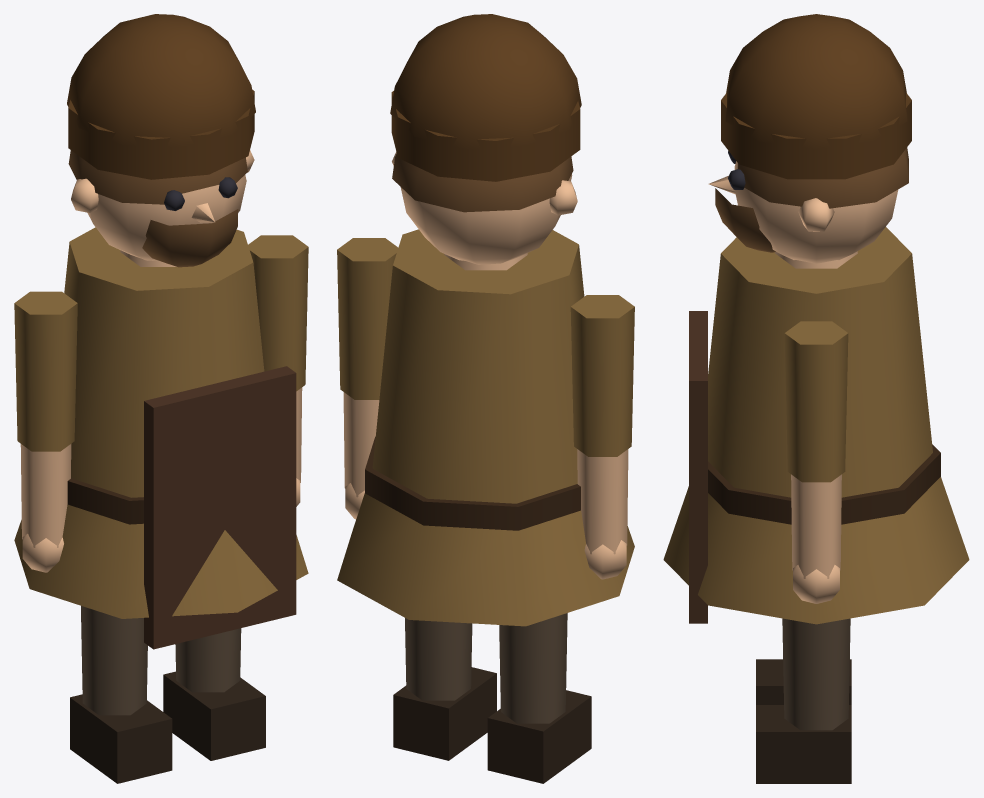
The model's file is w_brauerei.glb.
3 views of the same model, side by side, from view 1: azimuth 30°, elevation 25°; view 2: azimuth 150°, elevation 25°; view 3: azimuth 270°, elevation 25° (orthographic).
Visible parts, largest first — view 1: worker, arm_l, leg_l, leg_r, arm_r; view 2: worker, arm_l, leg_l, leg_r, arm_r; view 3: worker, arm_r, leg_r, leg_l.
Boxes of the visible parts, x1=… form: worker: x1=14, y1=14, x2=308, y2=649; arm_l: x1=14, y1=291, x2=77, y2=572; leg_l: x1=70, y1=606, x2=172, y2=783; leg_r: x1=163, y1=628, x2=265, y2=760; arm_r: x1=248, y1=235, x2=308, y2=506; worker: x1=337, y1=14, x2=634, y2=626; arm_l: x1=570, y1=295, x2=634, y2=579; leg_l: x1=487, y1=613, x2=591, y2=783; leg_r: x1=393, y1=618, x2=496, y2=760; arm_r: x1=337, y1=238, x2=398, y2=519; worker: x1=663, y1=14, x2=969, y2=624; arm_r: x1=784, y1=321, x2=848, y2=603; leg_r: x1=756, y1=618, x2=851, y2=783; leg_l: x1=756, y1=659, x2=851, y2=704.
Size of the model in its own units: 0.4053 by 1 by 0.384.
